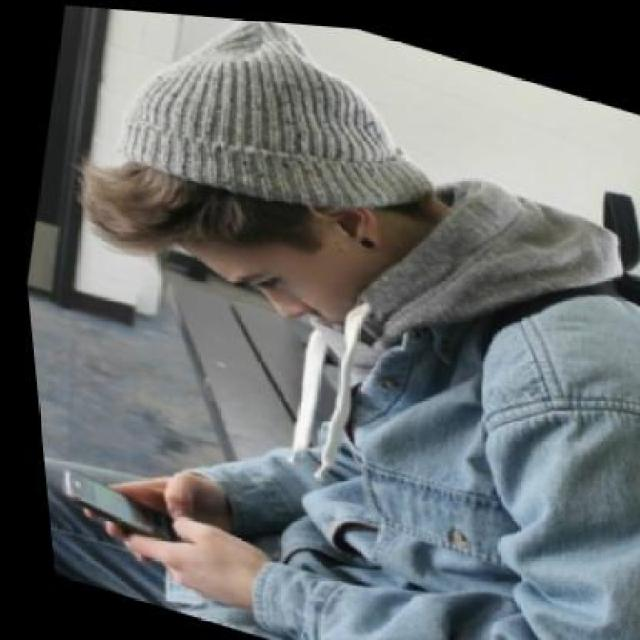hat: (100, 6, 457, 249)
